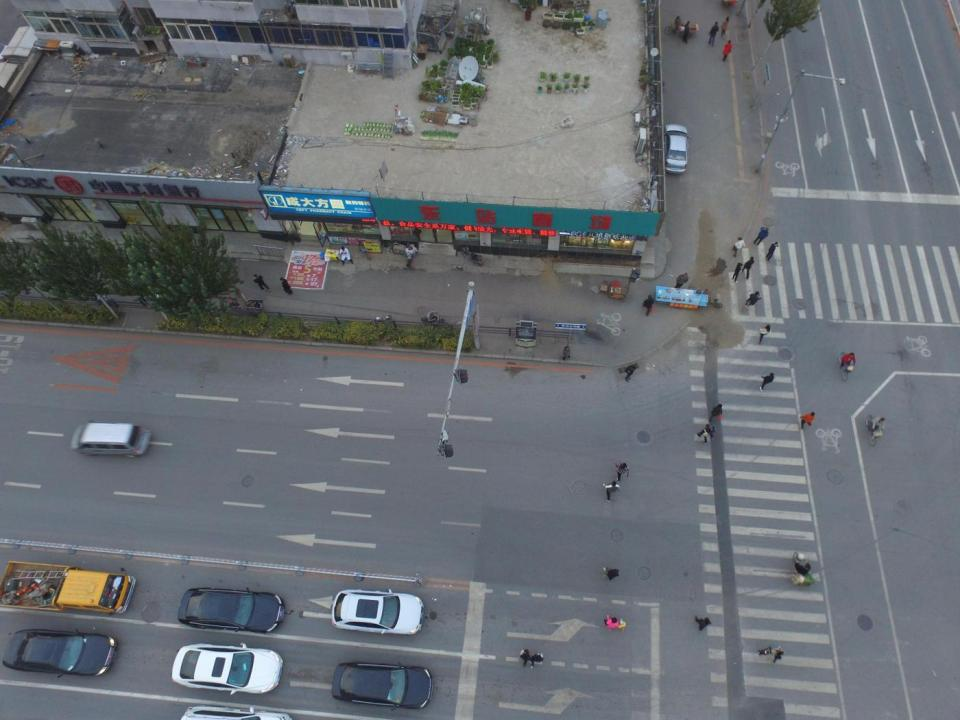car: (172, 641, 287, 695), (3, 630, 118, 678), (176, 588, 284, 635), (333, 661, 436, 710), (330, 591, 424, 636), (663, 122, 688, 174)
truck: (0, 560, 139, 615)
van: (70, 421, 154, 459)
